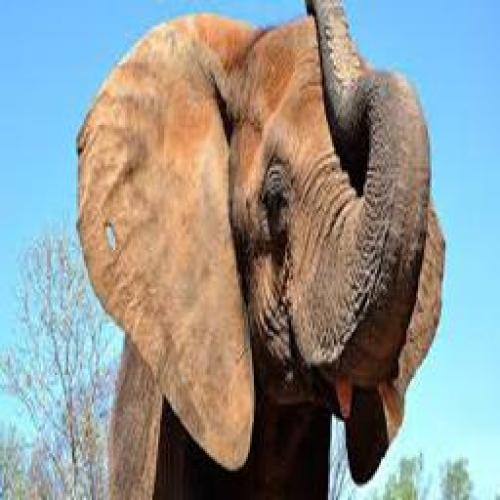african_elephant-endangered: (78, 0, 442, 500)
